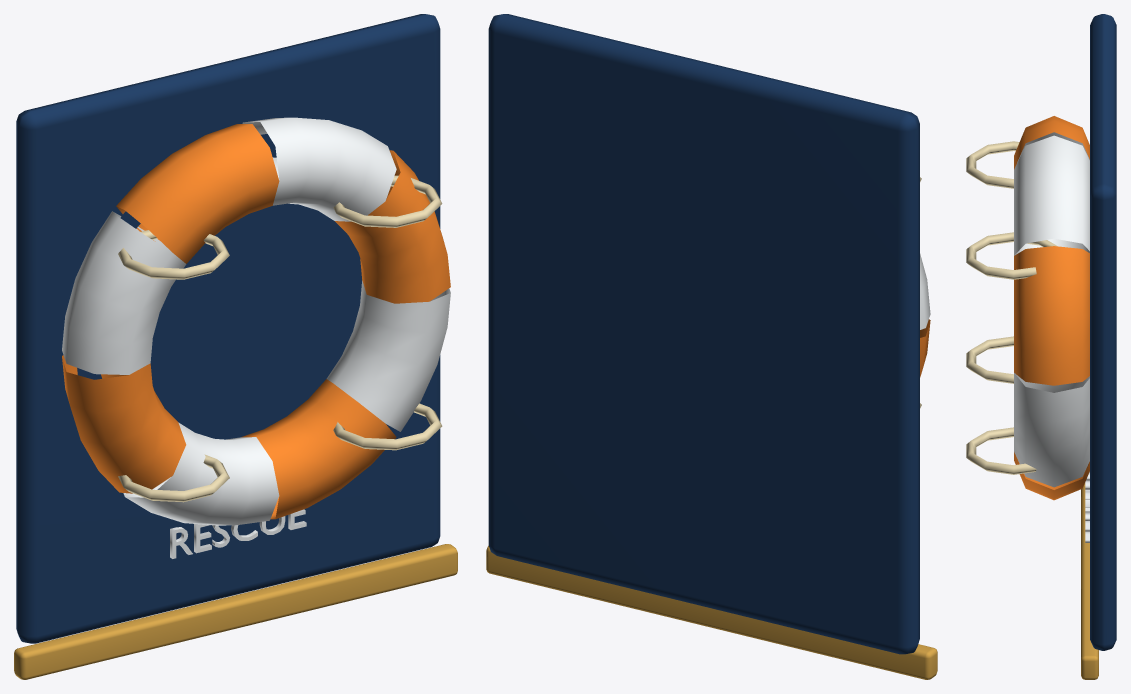
The model's file is aqua_life_ring.glb.
3 views of the same model, side by side, from view 1: azimuth 30°, elevation 25°; view 2: azimuth 150°, elevation 25°; view 3: azimuth 270°, elevation 25° (orthographic). The views are drawn at different scales.
Visible parts, largest first — view 1: LifeRing; view 2: LifeRing; view 3: LifeRing.
Boxes of the visible parts, box(x1,y1,x2,y2) form: LifeRing: box(14, 14, 457, 679); LifeRing: box(486, 14, 937, 679); LifeRing: box(966, 14, 1116, 679).
Bounding box in the file's own units: 0.99 × 1.2 × 0.3365.
